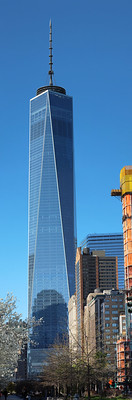low: (24, 82, 77, 384)
